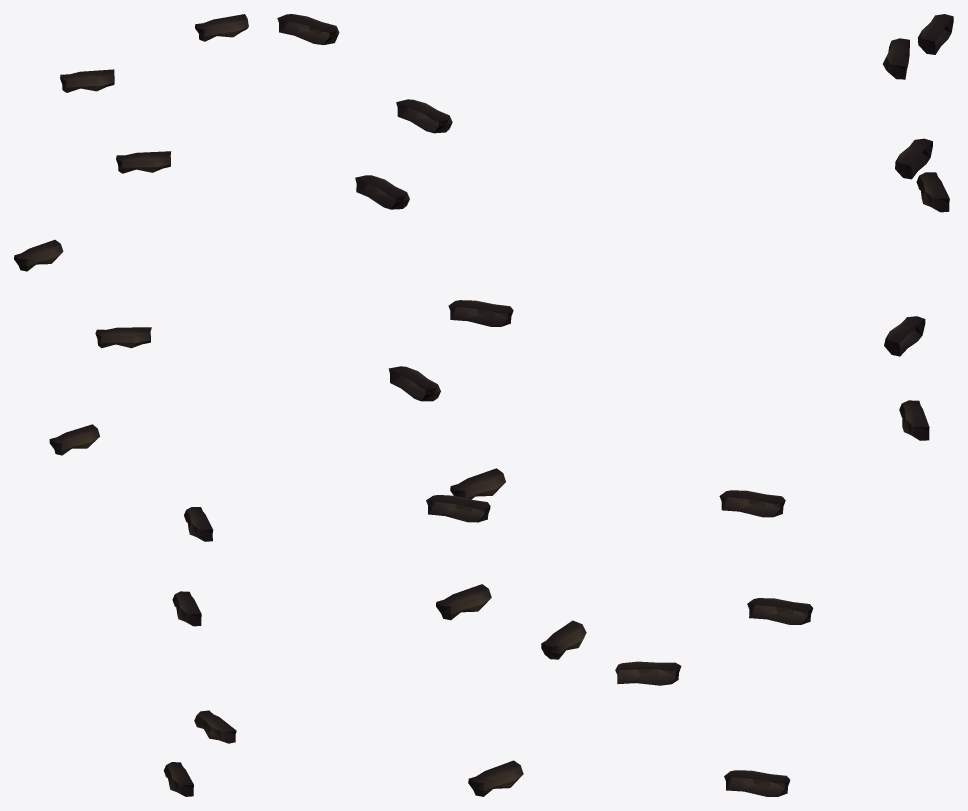
Rendered from level1Climb_grp.fbx.
The picture shows the model from 3 angles, left to right: view 1: azimuth 30°, elevation 25°; view 2: azimuth 150°, elevation 25°; view 3: azimuth 270°, elevation 25°; orthographic projection. The views are drawn at different scales.
Parts seen in each view (by area): view 1: climb_06, climb_09, climb_08, climb_10, climb_05, climb_07, climb_02, climb_01, climb_03, climb_04; view 2: climb_07, climb_05, climb_10, climb_09, climb_08, climb_06, climb_03, climb_01, climb_04, climb_02; view 3: climb_02, climb_04, climb_01, climb_03, climb_06, climb_08, climb_09, climb_07, climb_05, climb_10.
Boxes of the visible parts, left/top/right/bottom form: climb_06: left=95, top=327, right=151, bottom=348; climb_09: left=60, top=69, right=114, bottom=92; climb_08: left=116, top=151, right=171, bottom=173; climb_10: left=195, top=14, right=248, bottom=41; climb_05: left=49, top=424, right=99, bottom=455; climb_07: left=14, top=239, right=63, bottom=271; climb_02: left=194, top=710, right=236, bottom=743; climb_01: left=163, top=762, right=193, bottom=796; climb_03: left=172, top=591, right=201, bottom=626; climb_04: left=184, top=507, right=213, bottom=541; climb_07: left=448, top=300, right=513, bottom=326; climb_05: left=426, top=495, right=490, bottom=522; climb_10: left=277, top=14, right=339, bottom=44; climb_09: left=396, top=99, right=452, bottom=133; climb_08: left=355, top=175, right=409, bottom=209; climb_06: left=388, top=366, right=440, bottom=401; climb_03: left=436, top=584, right=491, bottom=620; climb_01: left=468, top=760, right=523, bottom=796; climb_04: left=450, top=468, right=505, bottom=499; climb_02: left=541, top=620, right=586, bottom=659; climb_02: left=615, top=661, right=681, bottom=685; climb_04: left=719, top=490, right=785, bottom=517; climb_01: left=724, top=770, right=790, bottom=796; climb_03: left=747, top=598, right=813, bottom=624; climb_06: left=884, top=316, right=925, bottom=356; climb_08: left=895, top=138, right=932, bottom=179; climb_09: left=918, top=14, right=953, bottom=54; climb_07: left=916, top=172, right=949, bottom=212; climb_05: left=899, top=400, right=929, bottom=440; climb_10: left=883, top=38, right=909, bottom=79.
Bounding box in the file's own units: 126 × 386 × 148.
